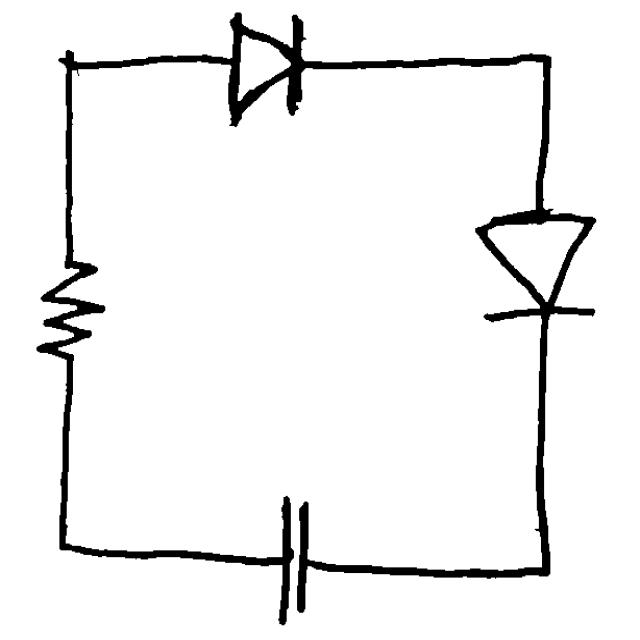capacitor: (259, 484, 332, 632)
diode: (456, 197, 618, 334), (208, 2, 320, 139)
resistor: (29, 237, 114, 383)
